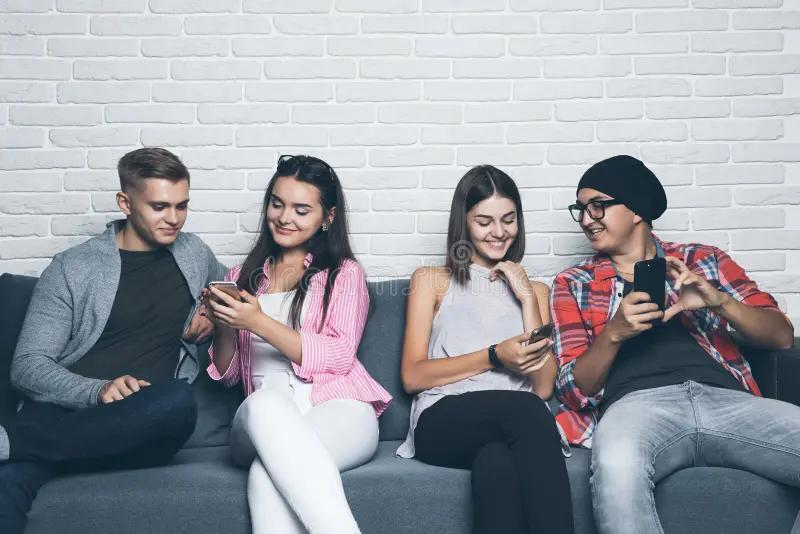long sleeve shirt: (556, 231, 795, 458), (204, 249, 393, 419)
short sleeve shirt: (596, 273, 756, 419), (67, 247, 195, 385)
sweater: (7, 214, 229, 407)
trousers: (588, 380, 800, 534), (0, 376, 199, 534), (410, 386, 576, 534), (227, 390, 380, 534)
vest: (397, 260, 571, 460), (246, 282, 319, 384)
